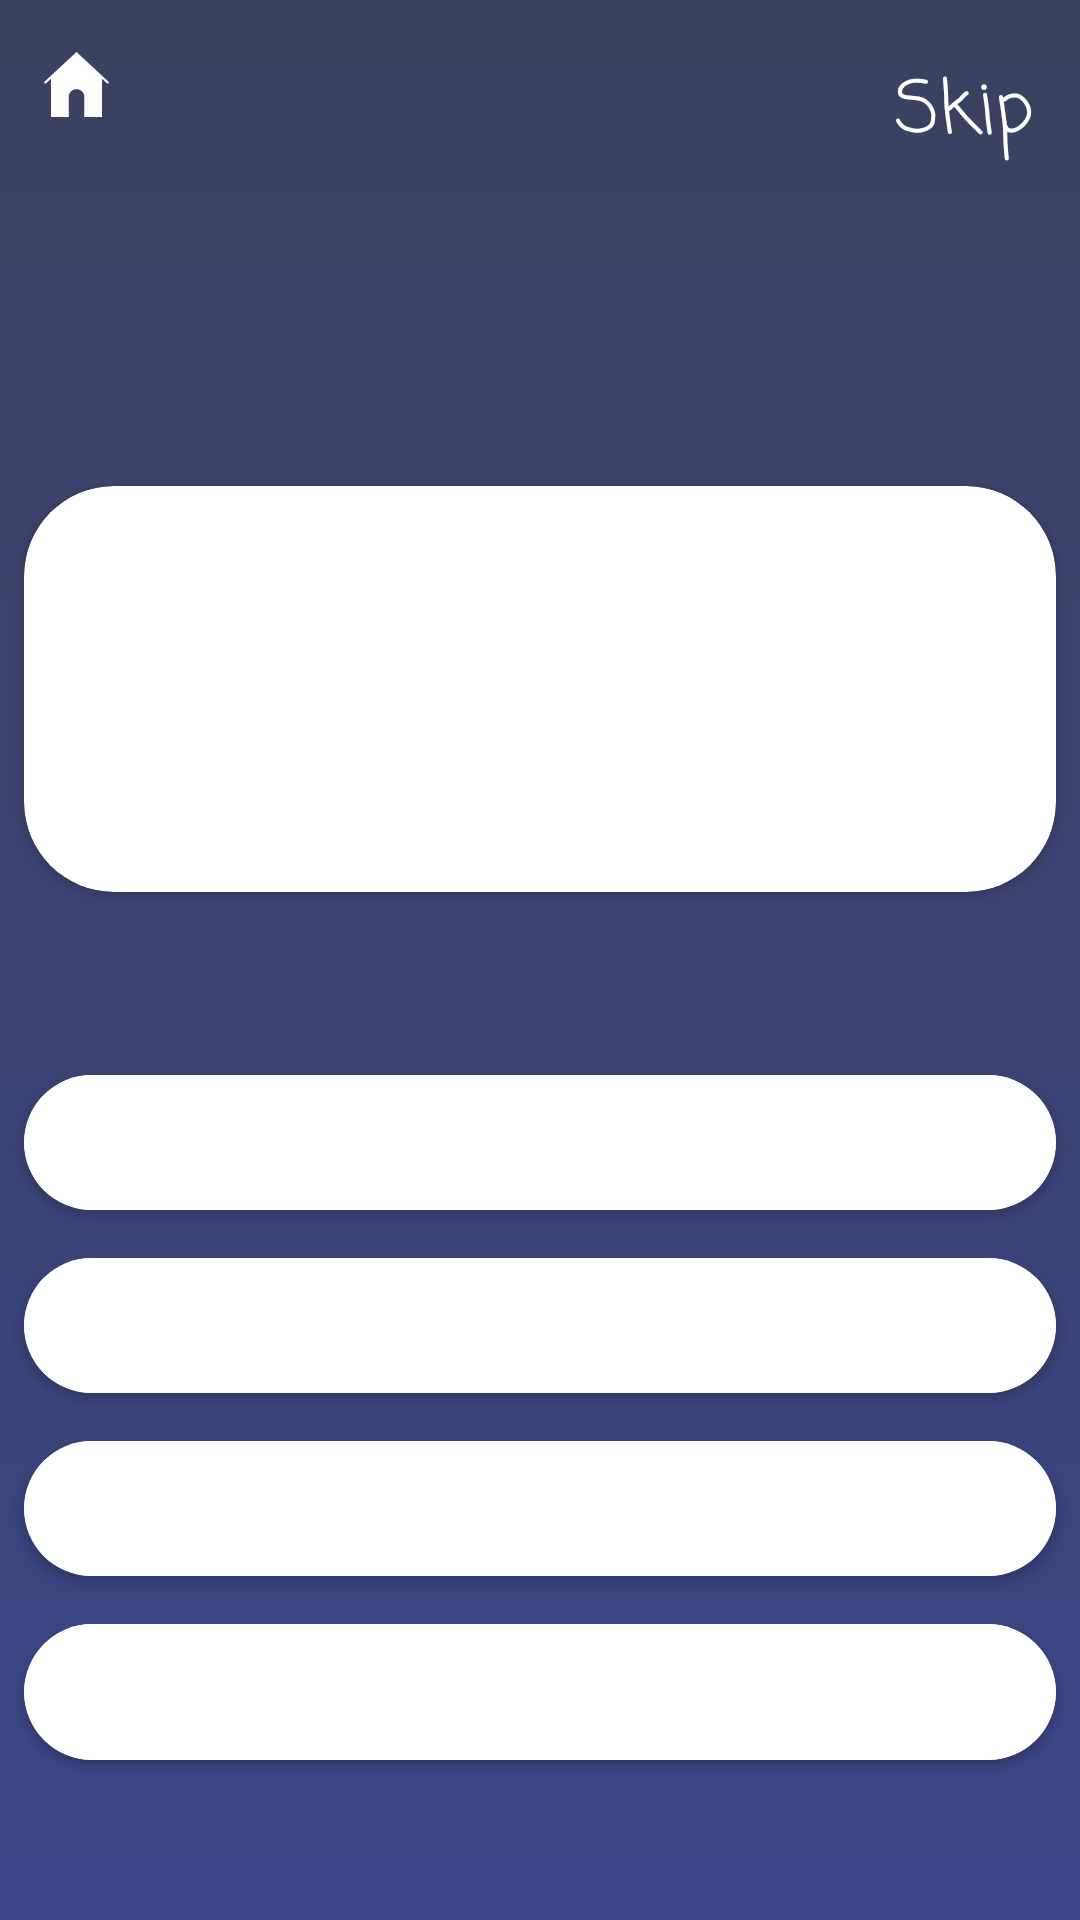

Icons on this 1080w x 1920h Android screen, each with the point to tap as (x=x, y=y):
home: (x=76, y=84)
